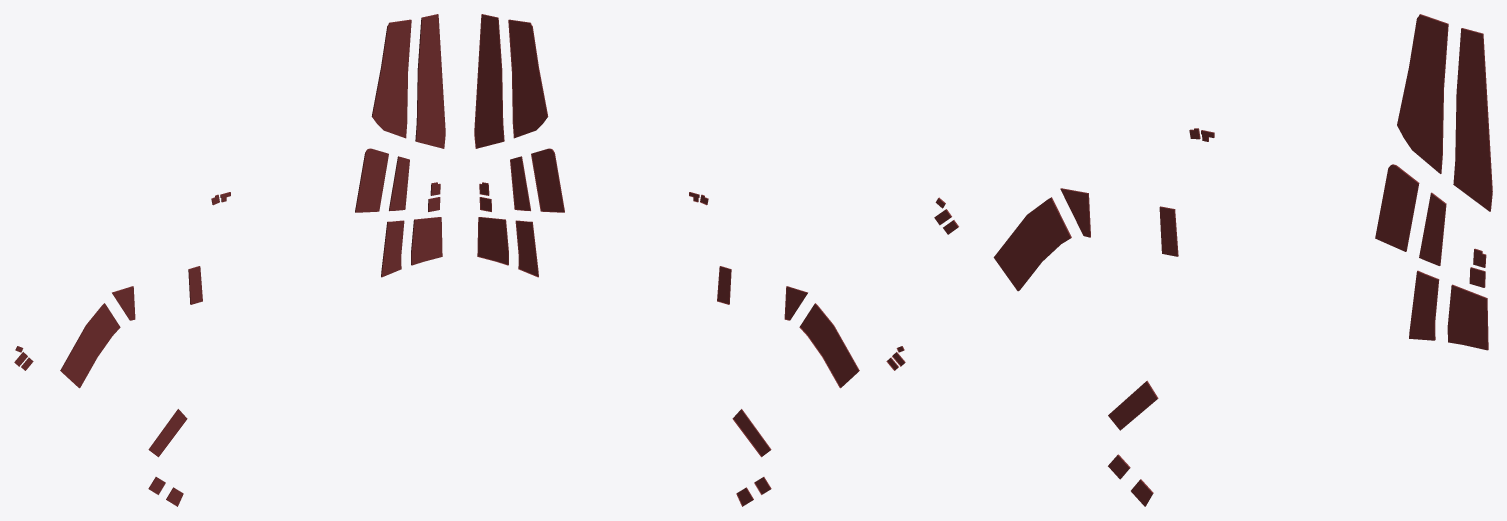
File: buildings_destroyed.obj
The picture shows the model from 3 angles, left to right: view 1: azimuth 30°, elevation 25°; view 2: azimuth 150°, elevation 25°; view 3: azimuth 330°, elevation 25°; orthographic projection. The views are drawn at different scales.
Visible parts, largest first — view 1: buildings_destroyed; view 2: buildings_destroyed; view 3: buildings_destroyed.
Boxes of the visible parts, box(x1,y1,x2,y2) form: buildings_destroyed: box(14, 14, 445, 506); buildings_destroyed: box(474, 14, 905, 506); buildings_destroyed: box(934, 14, 1492, 506).
Bounding box in the file's own units: 833 × 798 × 2.4.
